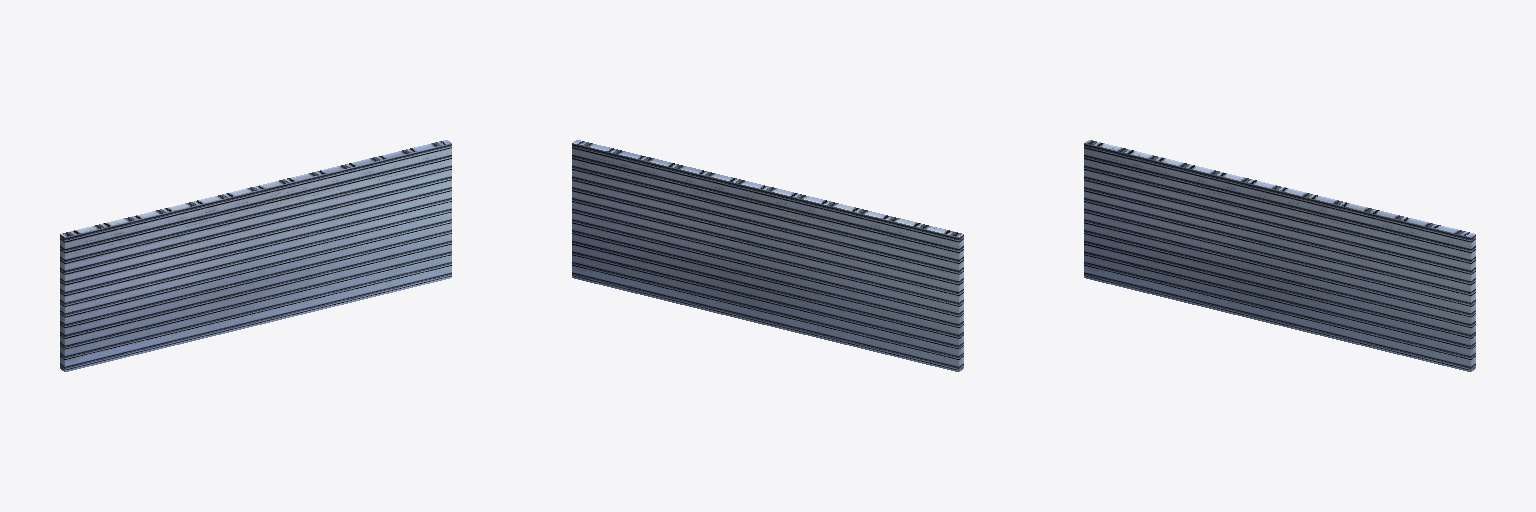
3 renders of one model, left to right at view 1: azimuth 30°, elevation 25°; view 2: azimuth 150°, elevation 25°; view 3: azimuth 330°, elevation 25°, orthographic.
Parts seen in each view (by area): view 1: Box001; view 2: Box001; view 3: Box001.
Part boxes in pixels (x1,y1,x2,y2): Box001: (60,140,451,371); Box001: (572,140,963,371); Box001: (1084,140,1475,371).
Bounding box in the file's own units: 74.36 × 24.81 × 1.58.
Materials: 1 (1 with a texture image).